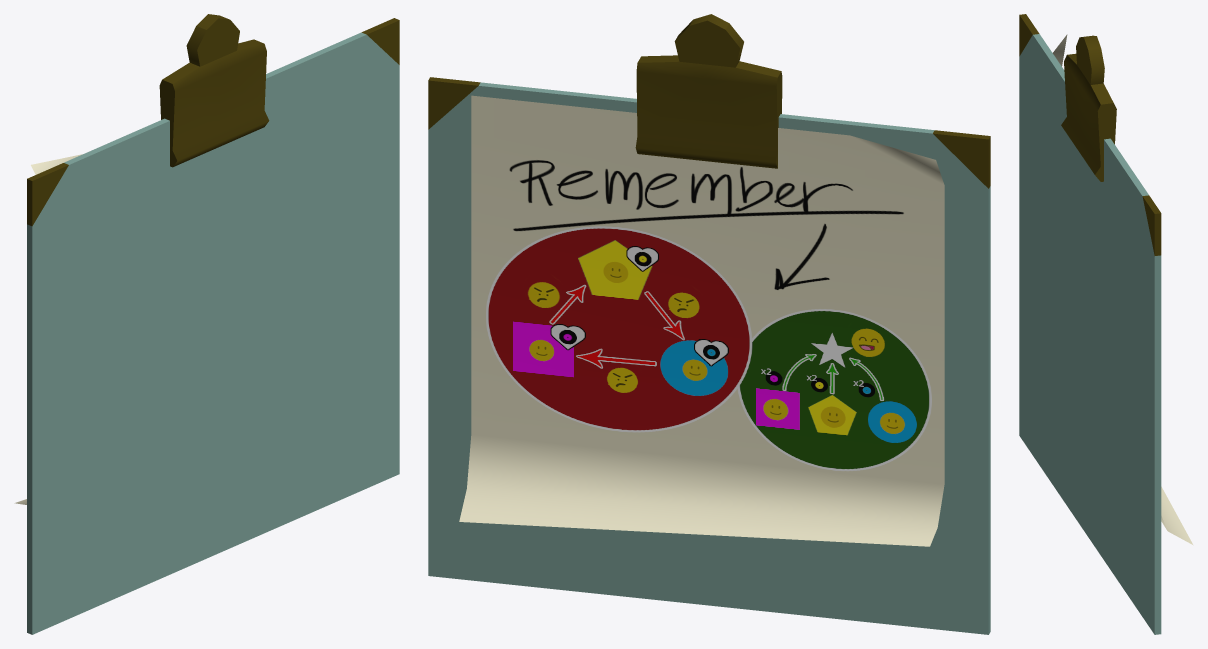
File: infoPanel.fbx
3 views of the same model, side by side, from view 1: azimuth 30°, elevation 25°; view 2: azimuth 150°, elevation 25°; view 3: azimuth 270°, elevation 25° (orthographic). The views are drawn at different scales.
Parts seen in each view (by area): view 1: info1; view 2: info1; view 3: info1.
Boxes of the visible parts, box(x1,y1,x2,y2) form: info1: box(14, 14, 399, 634); info1: box(428, 14, 990, 634); info1: box(1019, 14, 1193, 634).
Bounding box in the file's own units: 0.9651 × 1.12 × 0.3553.
3 materials, 1 textured.
